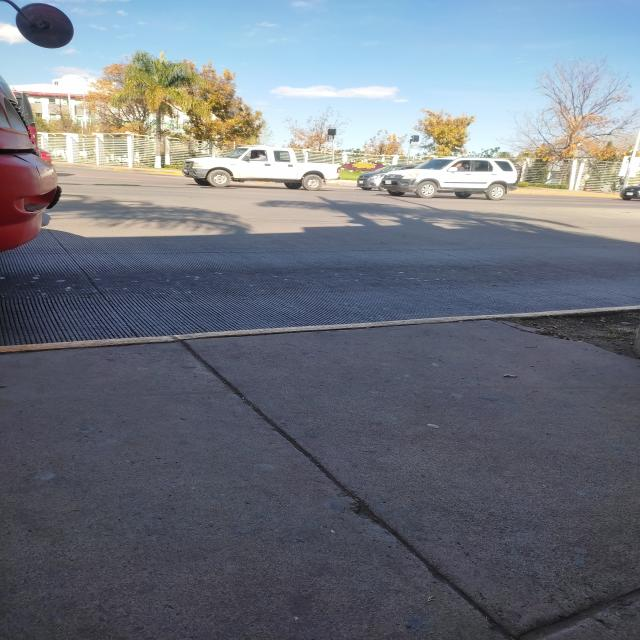Auto: (176, 127, 344, 198), (385, 148, 520, 203), (358, 144, 427, 202), (614, 178, 640, 203)
